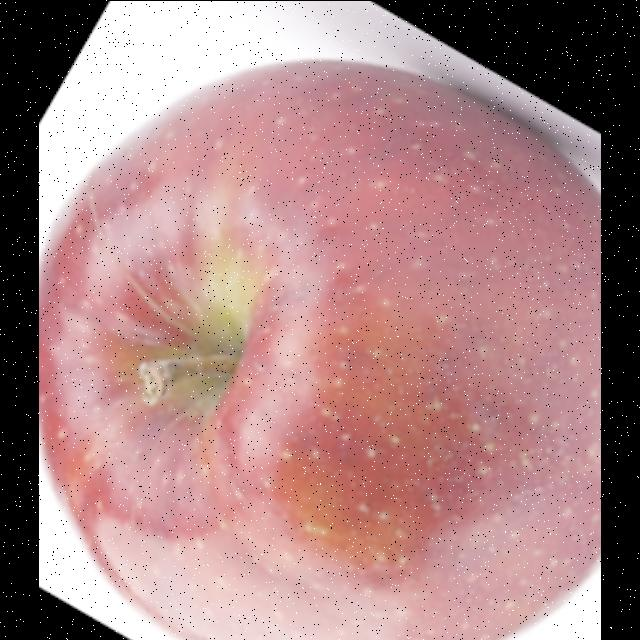Apel Segar: (39, 55, 601, 640)
